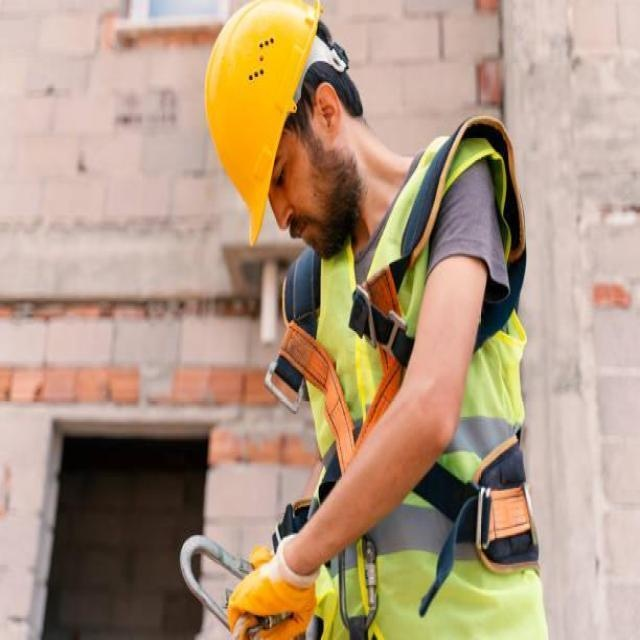Arnes_seguridad: (282, 111, 544, 640)
